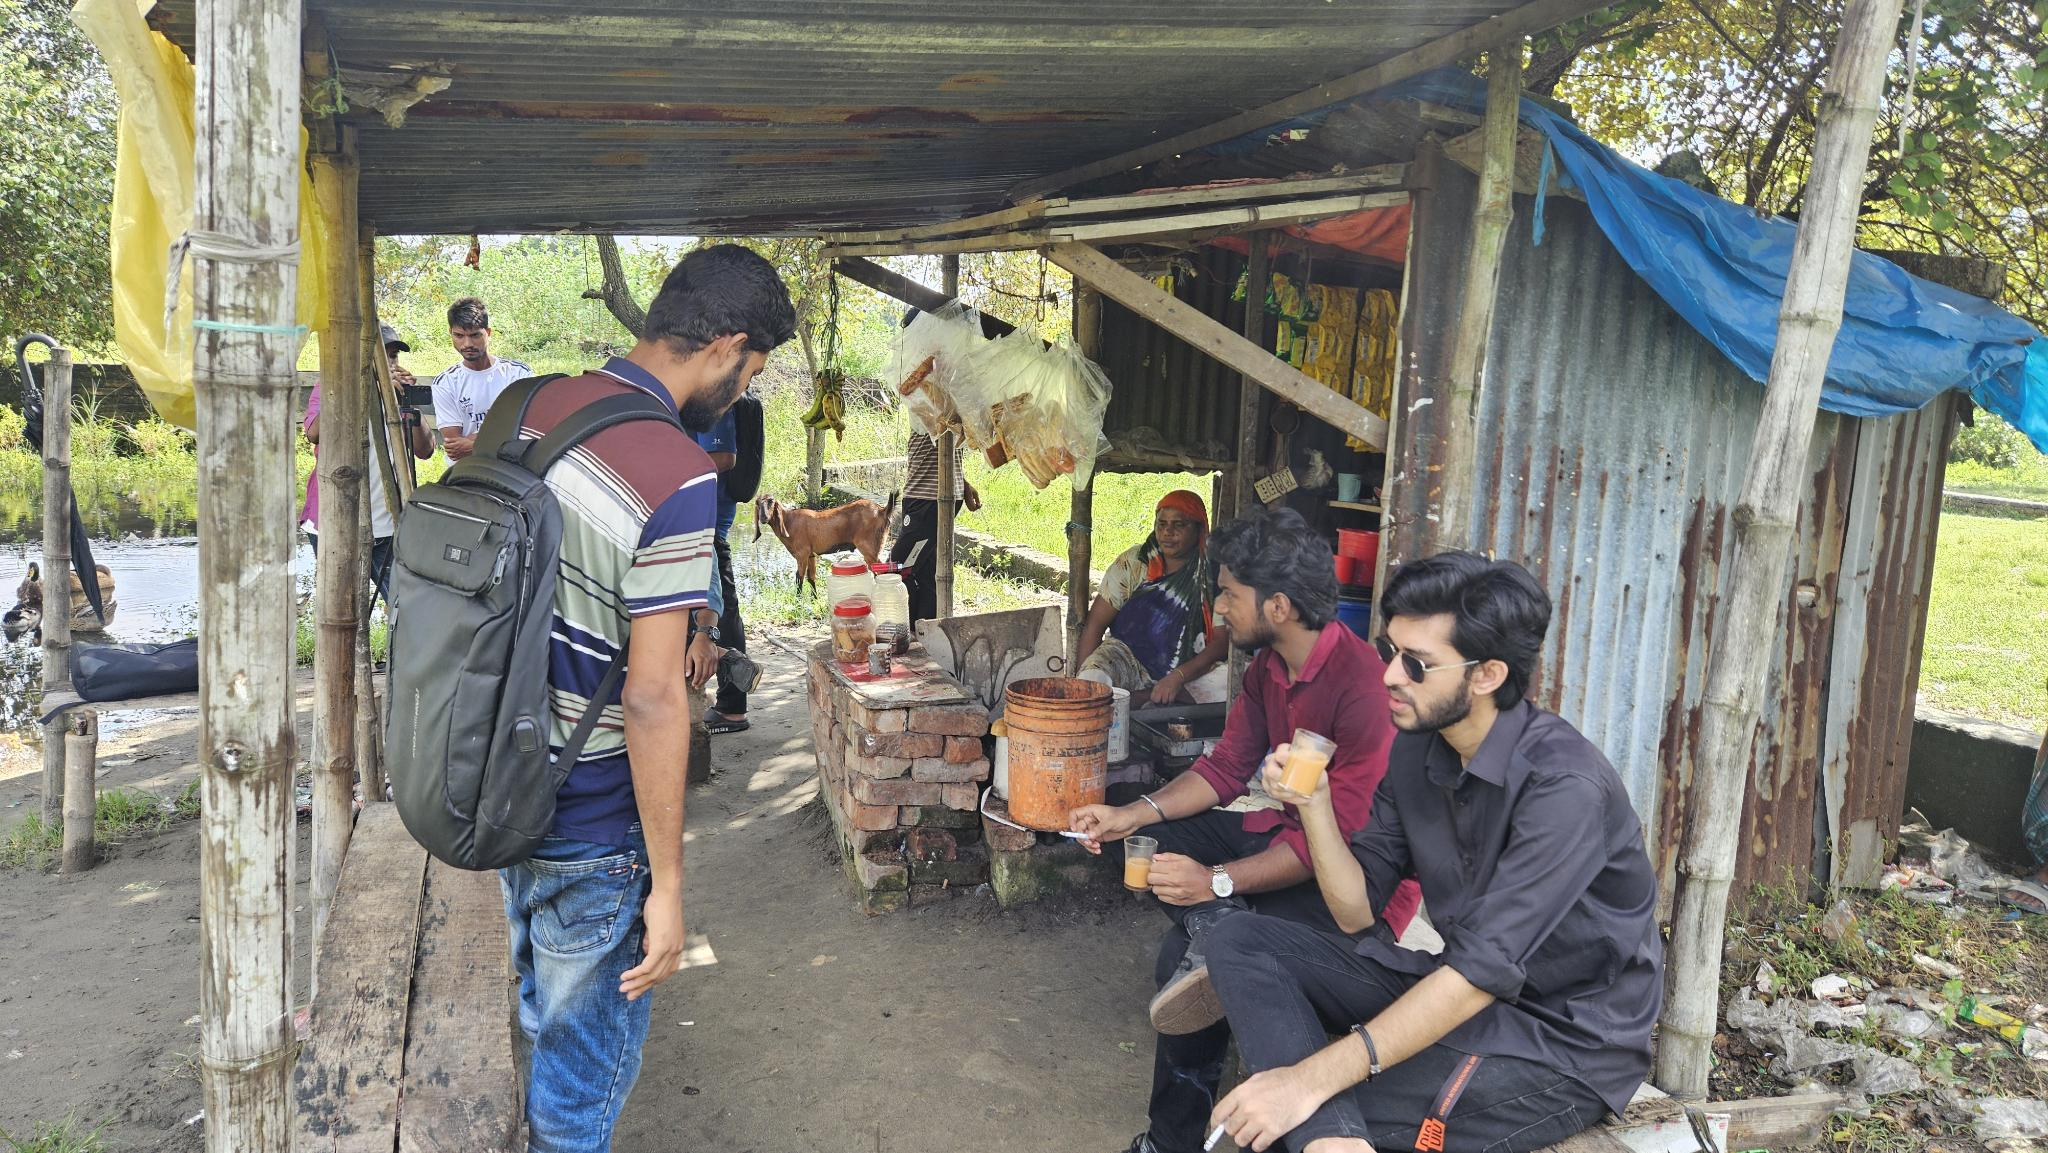cigarette: (1198, 1116, 1236, 1153), (1055, 827, 1093, 844)
nonSmoker: (392, 240, 793, 1153), (1077, 491, 1227, 706), (430, 297, 532, 465)
smoker: (1196, 554, 1667, 1153), (1066, 516, 1384, 956)
